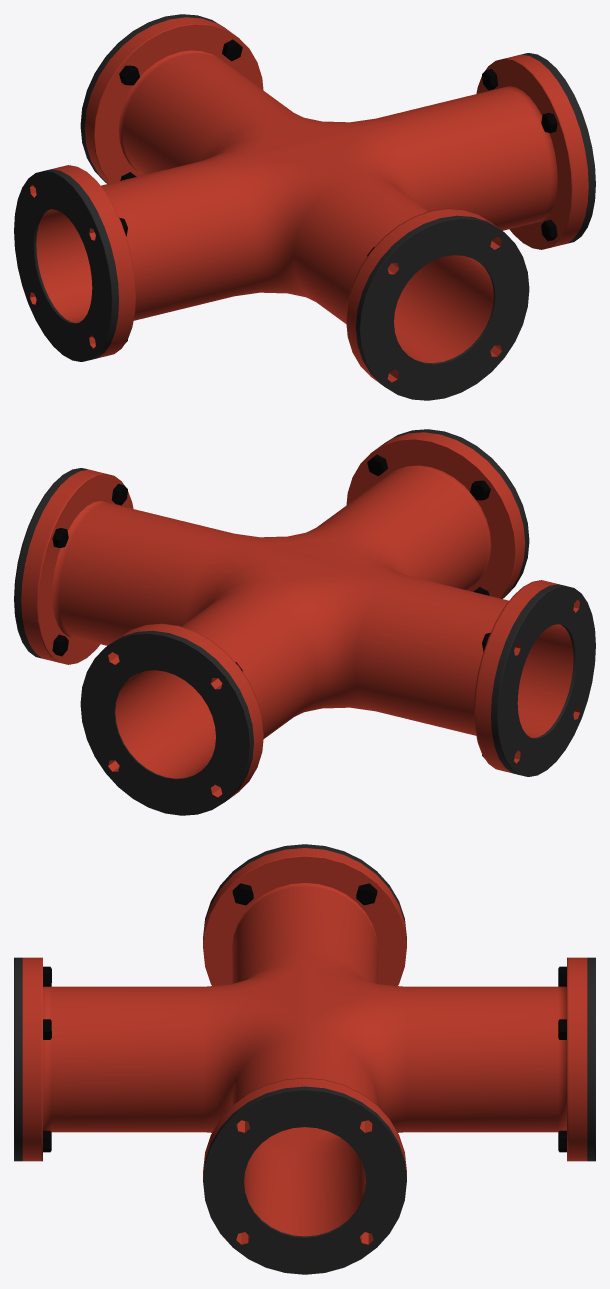
File: QuadPupe.fbx
3 renders of one model, top to bottom at view 1: azimuth 30°, elevation 25°; view 2: azimuth 150°, elevation 25°; view 3: azimuth 270°, elevation 25°, orthographic. The views are drawn at different scales.
Visible parts, largest first — view 1: Quad_Pipe; view 2: Quad_Pipe; view 3: Quad_Pipe.
Part boxes in pixels (x1=…): Quad_Pipe: x1=14, y1=14, x2=595, y2=400; Quad_Pipe: x1=14, y1=429, x2=595, y2=815; Quad_Pipe: x1=14, y1=844, x2=595, y2=1274.
Bounding box in the file's own units: 40 × 14 × 40.
